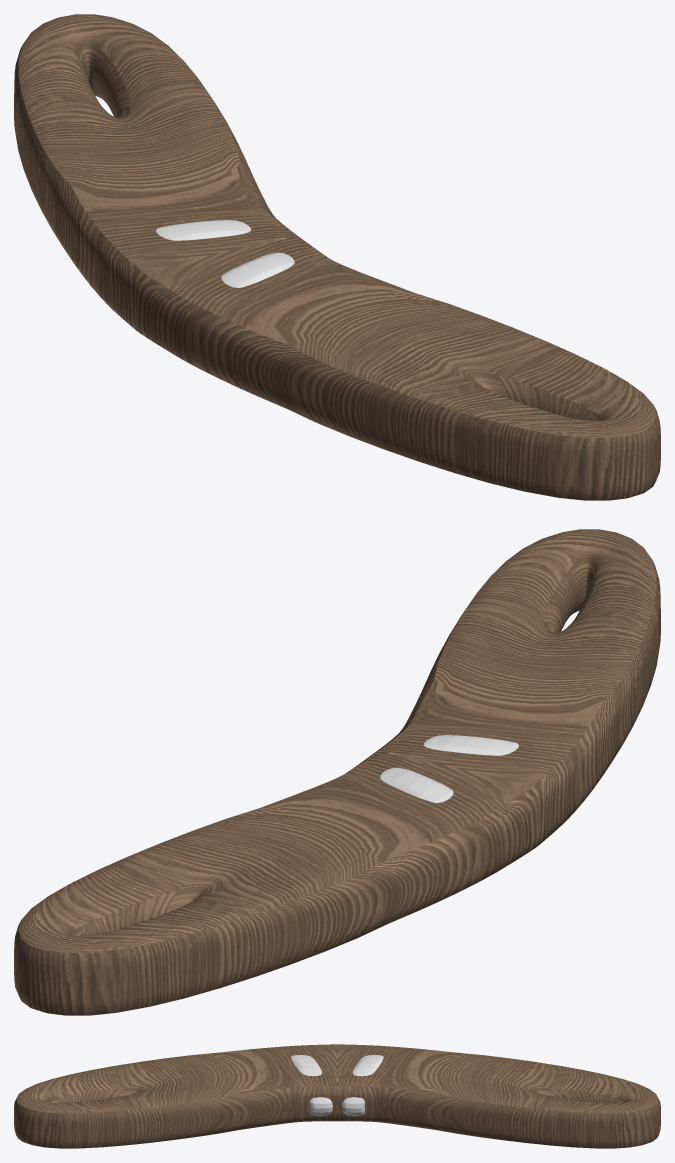
3 views of the same model, one above another, from view 1: azimuth 30°, elevation 25°; view 2: azimuth 150°, elevation 25°; view 3: azimuth 270°, elevation 25° (orthographic). The views are drawn at different scales.
Visible parts, largest first — view 1: Boomerang, Gem; view 2: Boomerang, Gem; view 3: Boomerang, Gem.
Boxes of the visible parts, left/top/right/bottom form: Boomerang: left=14, top=14, right=660, bottom=500; Gem: left=156, top=220, right=294, bottom=287; Boomerang: left=14, top=529, right=660, bottom=1015; Gem: left=380, top=735, right=518, bottom=802; Boomerang: left=14, top=1044, right=660, bottom=1148; Gem: left=291, top=1055, right=383, bottom=1115.
Bounding box in the file's own units: 2.94 × 0.8245 × 11.05.
2 materials, 1 textured.
